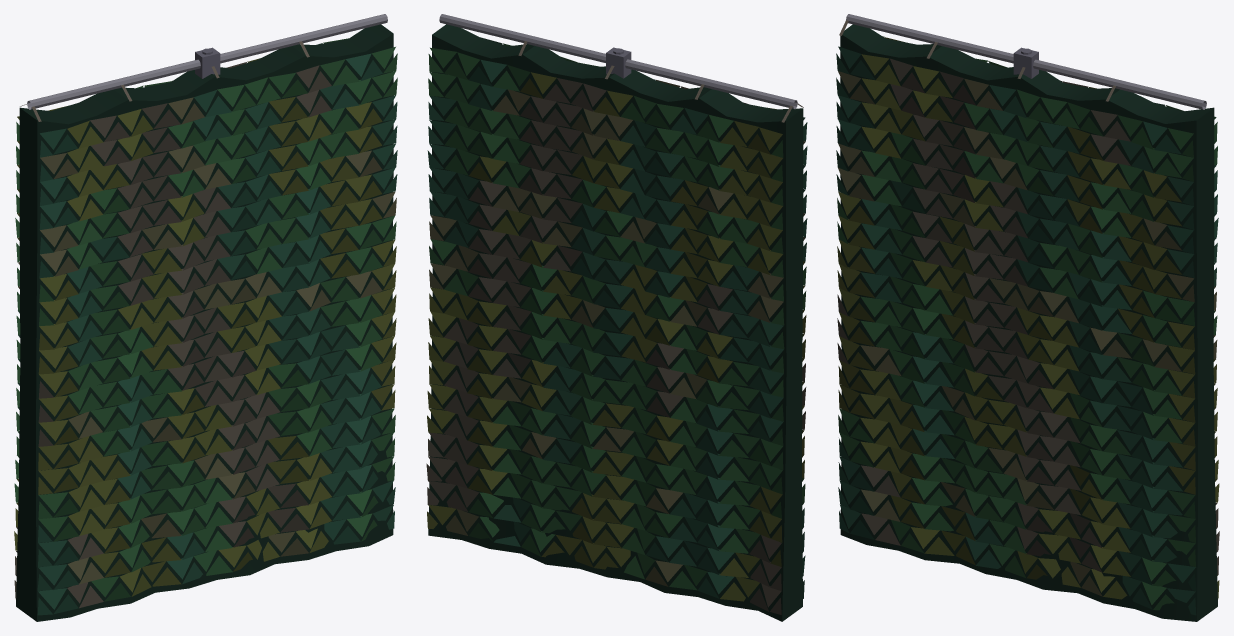
File: camo_net.glb
3 views of the same model, side by side, from view 1: azimuth 30°, elevation 25°; view 2: azimuth 150°, elevation 25°; view 3: azimuth 330°, elevation 25° (orthographic).
Visible parts, largest first — view 1: CamoNet; view 2: CamoNet; view 3: CamoNet.
Part boxes in pixels (box(x1,y1,x2,y2)): CamoNet: box(14, 14, 397, 621); CamoNet: box(426, 14, 807, 621); CamoNet: box(836, 14, 1219, 621).
Bounding box in the file's own units: 2 × 2.8 × 0.3.
